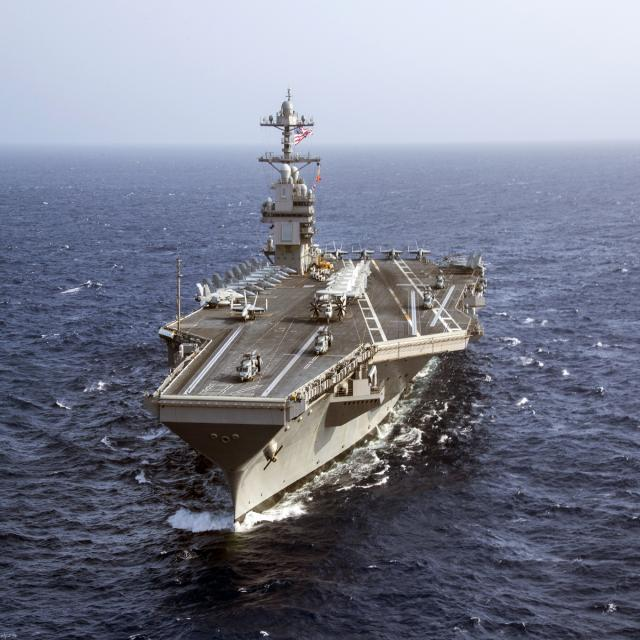navalvessels: (136, 95, 489, 528)
